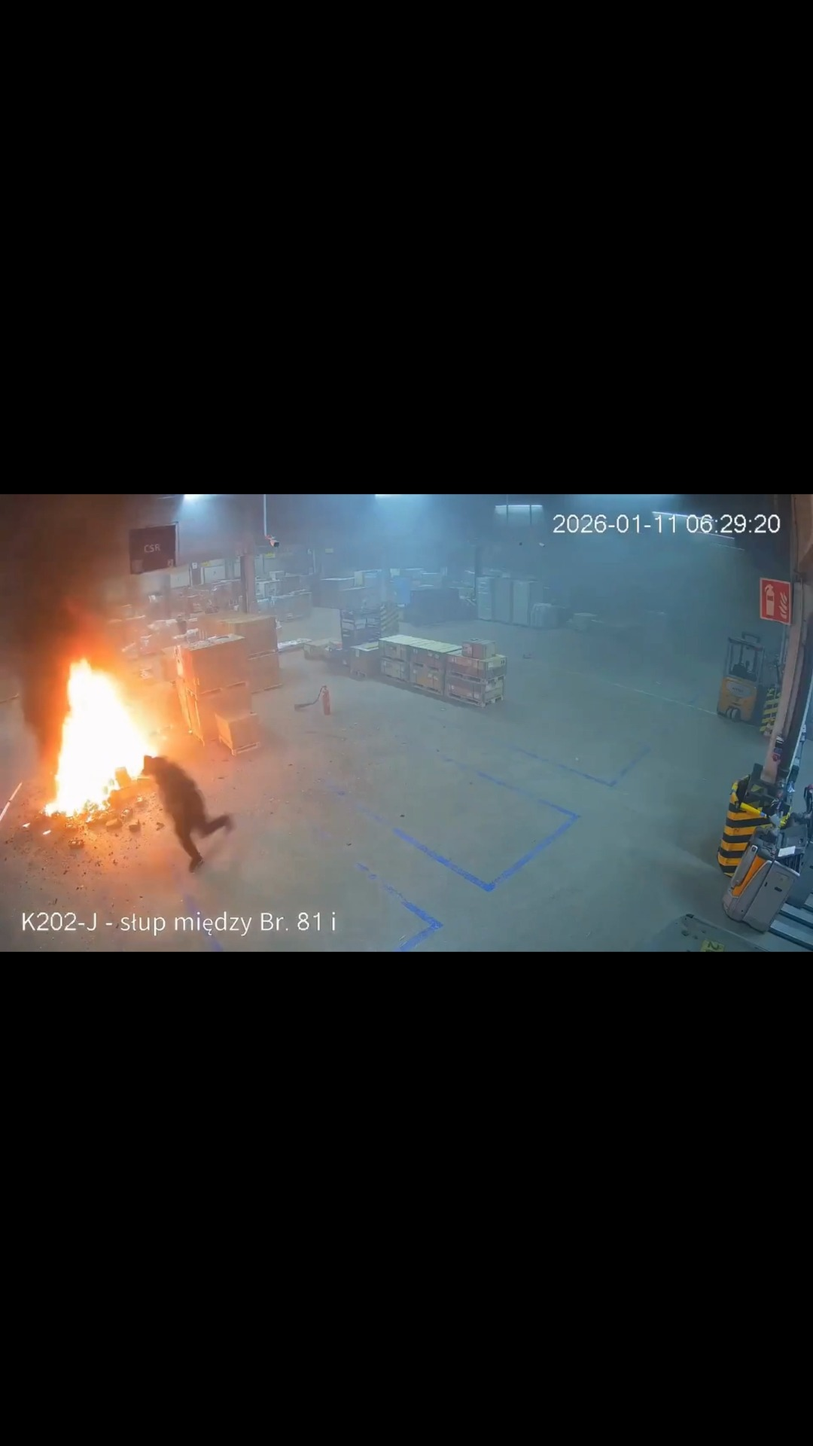fire: (43, 651, 161, 825)
smoke: (1, 495, 137, 764)
